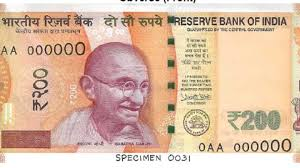twoHundred: (12, 28, 292, 137)
